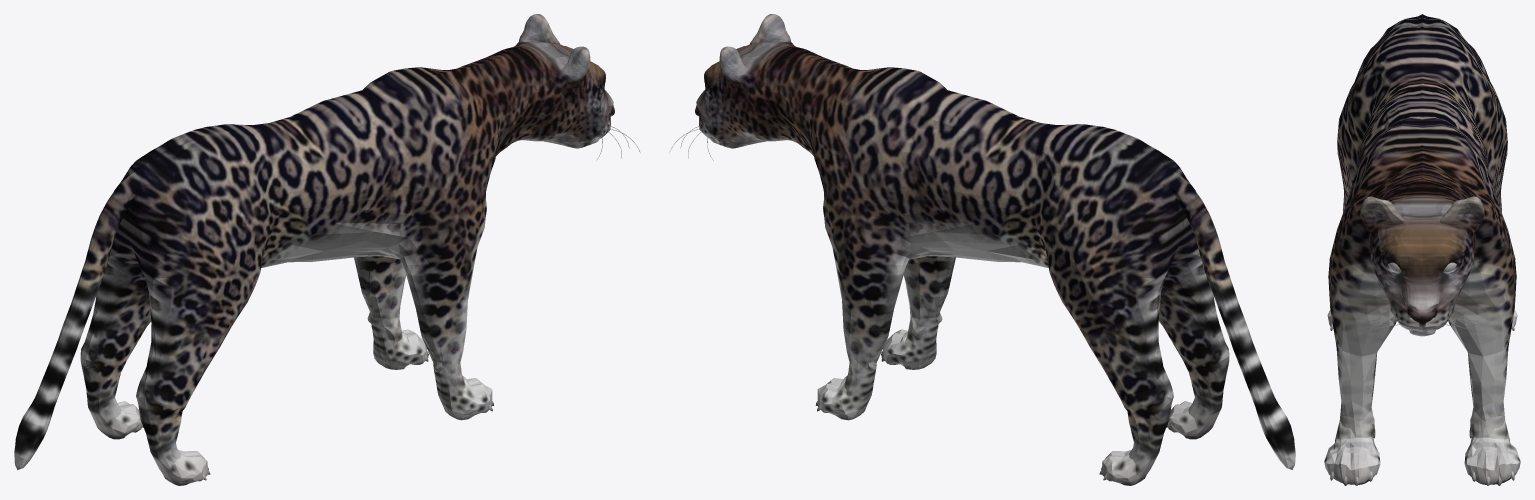
Rendered from I9NYKZFLD9P6OHCWDSH1327I0.gltf.
3 renders of one model, left to right at view 1: azimuth 30°, elevation 25°; view 2: azimuth 150°, elevation 25°; view 3: azimuth 270°, elevation 25°, orthographic. The views are drawn at different scales.
Bounding box in the file's own units: 2.5 × 1.3 × 0.6701.
Materials: 5 (5 with a texture image).
